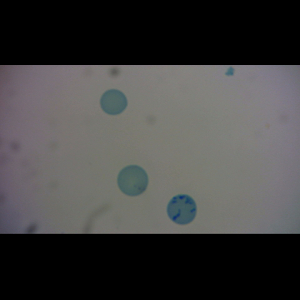aggregate reticulocyte: (166, 193, 198, 225)
erythrocyte: (99, 89, 129, 116)
punctate reticulocyte: (116, 164, 149, 197)
